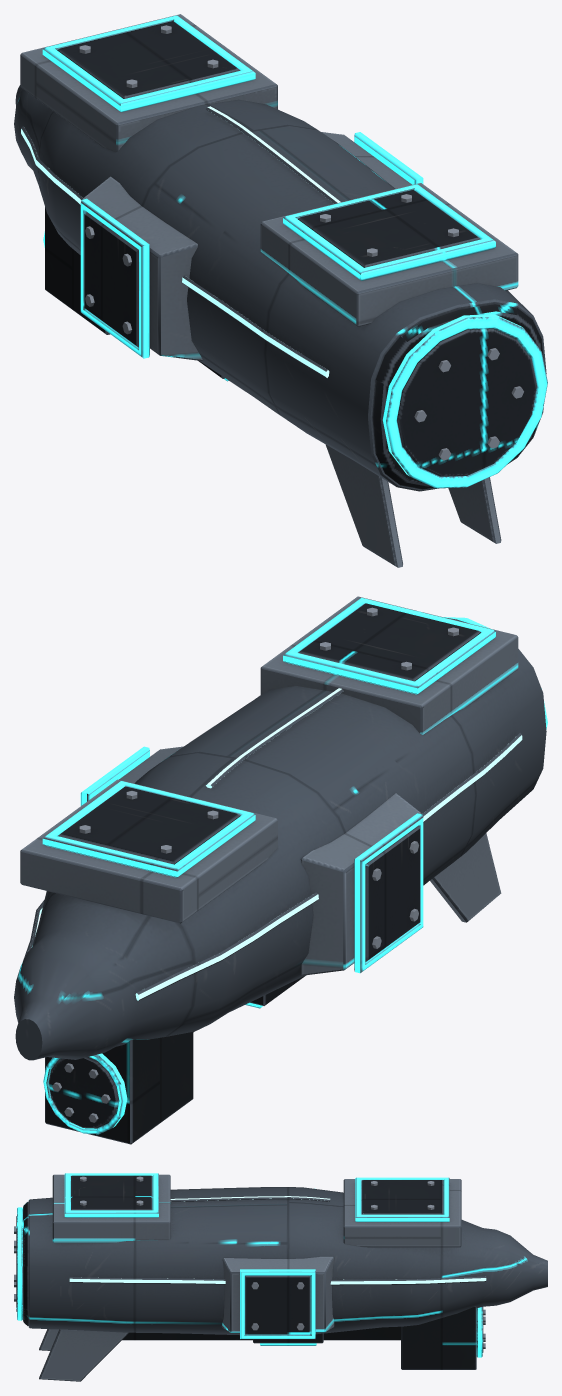
The model's file is casco_explorador_t3.fbx.
3 renders of one model, top to bottom at view 1: azimuth 30°, elevation 25°; view 2: azimuth 150°, elevation 25°; view 3: azimuth 270°, elevation 25°, orthographic. The views are drawn at different scales.
Parts seen in each view (by area): view 1: casco_explorador_t3, casco_explorador_t3_neon; view 2: casco_explorador_t3, casco_explorador_t3_neon; view 3: casco_explorador_t3, casco_explorador_t3_neon.
Part boxes in pixels (bbox=[...]): casco_explorador_t3: bbox=[14, 14, 547, 567]; casco_explorador_t3_neon: bbox=[21, 106, 340, 377]; casco_explorador_t3: bbox=[14, 596, 547, 1144]; casco_explorador_t3_neon: bbox=[31, 688, 522, 1000]; casco_explorador_t3: bbox=[14, 1173, 547, 1381]; casco_explorador_t3_neon: bbox=[69, 1196, 486, 1284].
Size of the model in its own units: 4.3 by 4.13 by 11.31.
